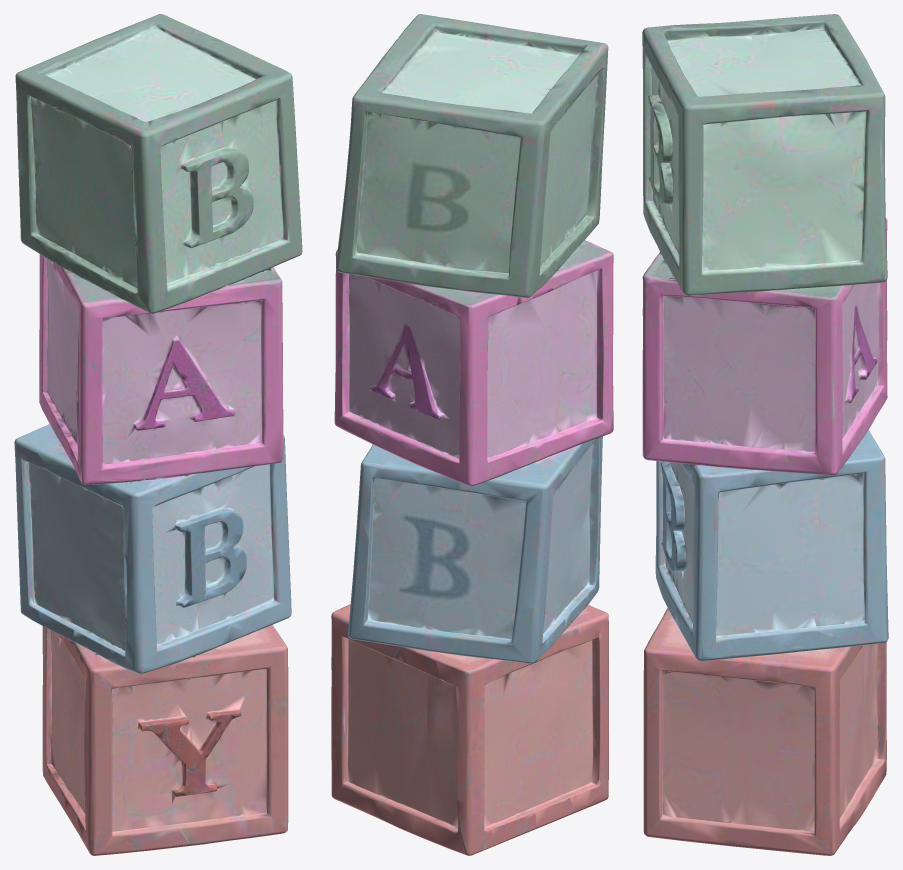
3 renders of one model, left to right at view 1: azimuth 30°, elevation 25°; view 2: azimuth 150°, elevation 25°; view 3: azimuth 270°, elevation 25°, orthographic.
Size of the model in its own units: 0.5896 by 1.9 by 0.5704.
1 material, 1 textured.
